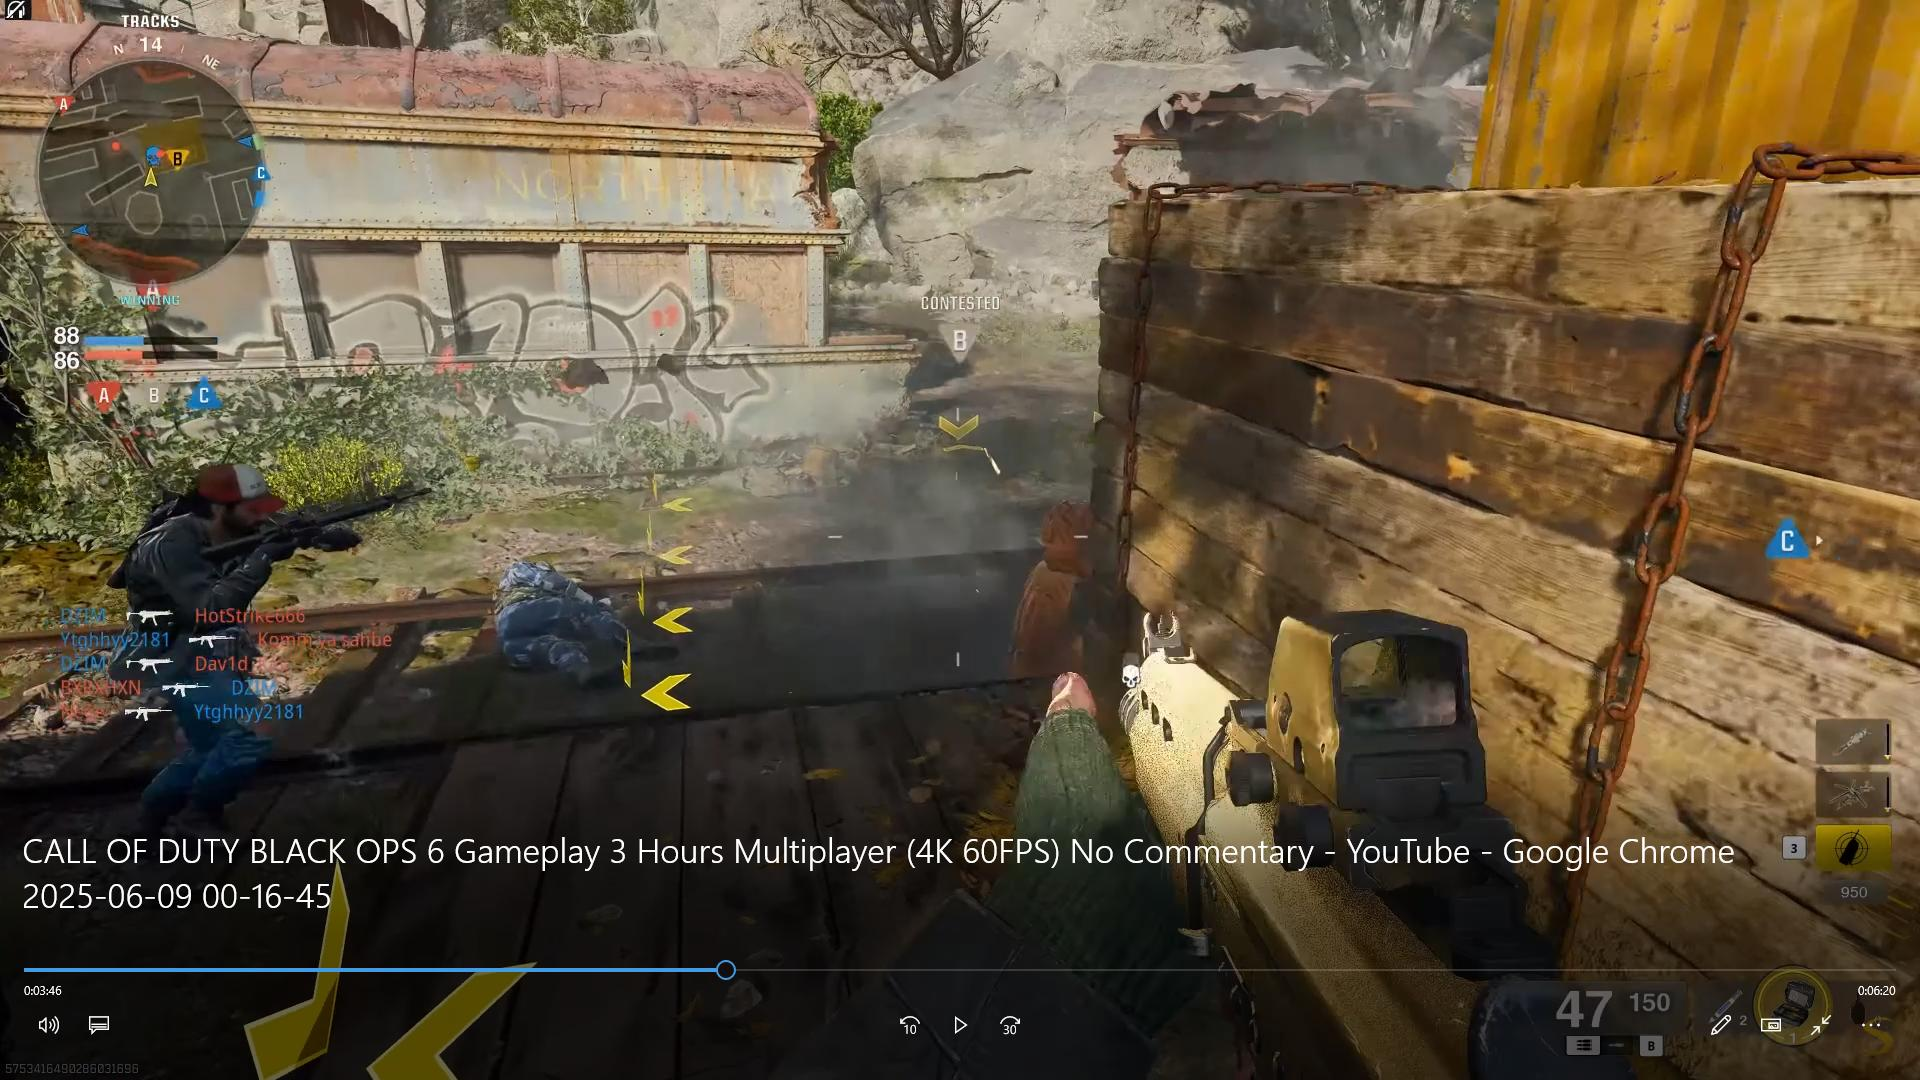Enemy: (132, 443, 324, 600), (1030, 491, 1091, 667)
